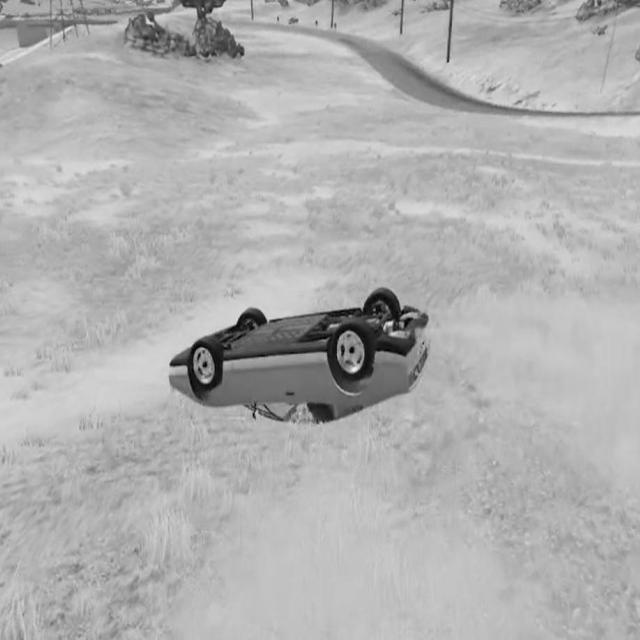accident: (164, 279, 436, 436)
